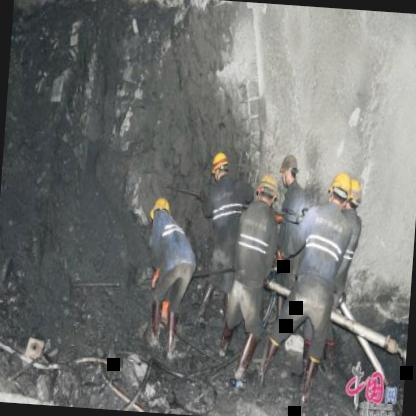helmet: (254, 170, 279, 214), (326, 170, 352, 208), (208, 148, 232, 188), (147, 196, 172, 228), (279, 152, 300, 188), (346, 176, 364, 216)
